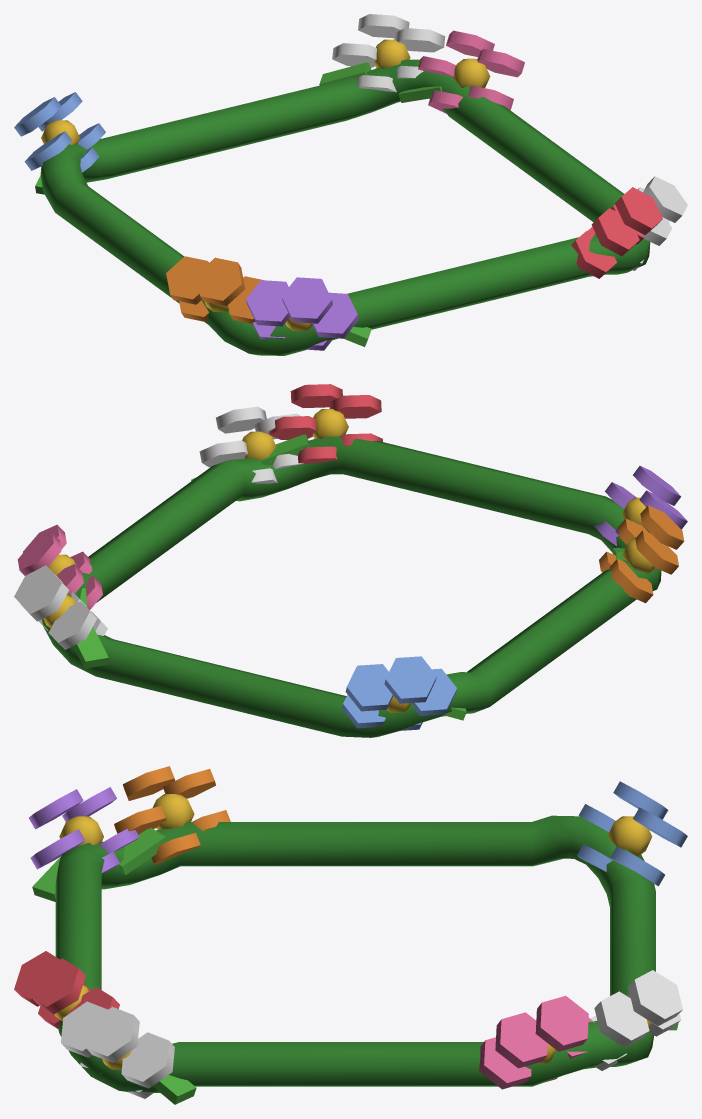
The model's file is hat-flower_crown.glb.
The picture shows the model from 3 angles, top to bottom: view 1: azimuth 30°, elevation 25°; view 2: azimuth 150°, elevation 25°; view 3: azimuth 270°, elevation 25°; orthographic projection. The views are drawn at different scales.
Visible parts, largest first — view 1: Hat; view 2: Hat; view 3: Hat.
Part boxes in pixels (x1,y1,x2,y2): Hat: (14,14,687,355); Hat: (14,384,687,737); Hat: (14,766,687,1104).
Size of the model in its own units: 0.5855 by 0.1113 by 0.6008.
